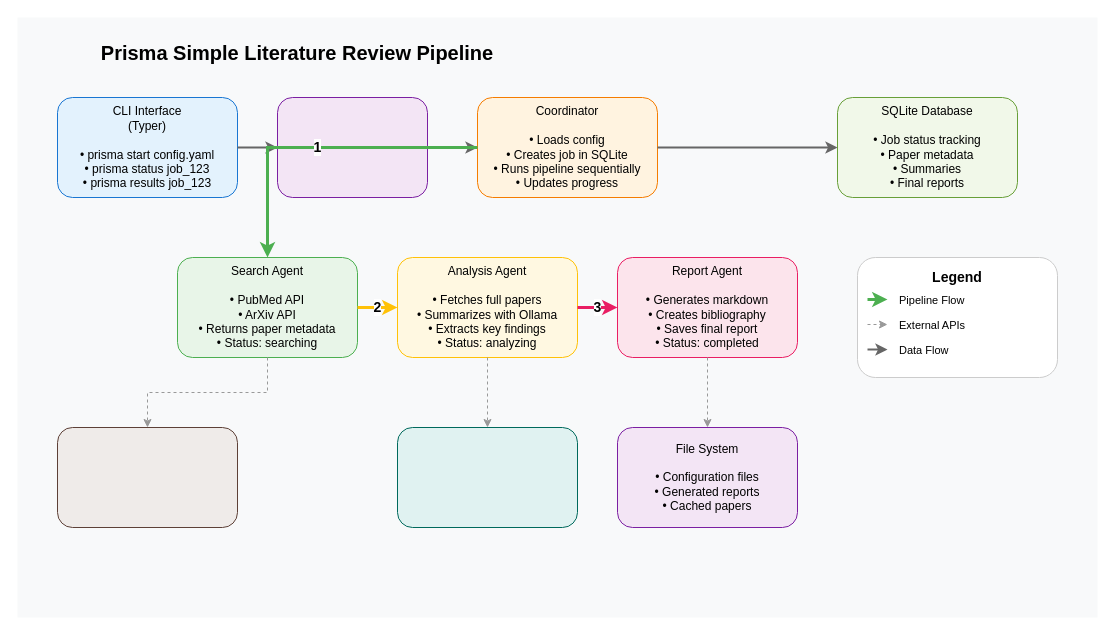
The diagram is 1114 pixels wide and 634 high, and some of its shapes have lost their labels. Each missing label, with the centre of its shape:
External APIs • PubMed • ArXiv • Paper download sites: (x=147, y=477)
Ollama LLM • Local inference • Paper summarization • Key insight extraction: (x=487, y=477)
YAML Config topic: "ML healthcare" sources: [pubmed, arxiv] max_papers: 100: (x=352, y=147)
